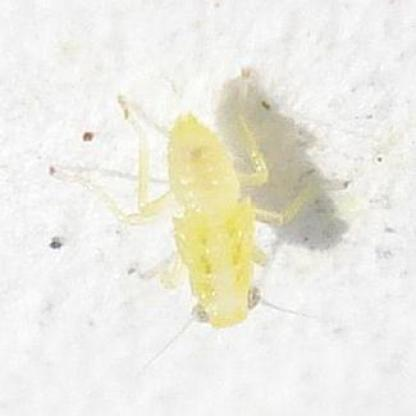green-leafhopper: (155, 96, 277, 331)
